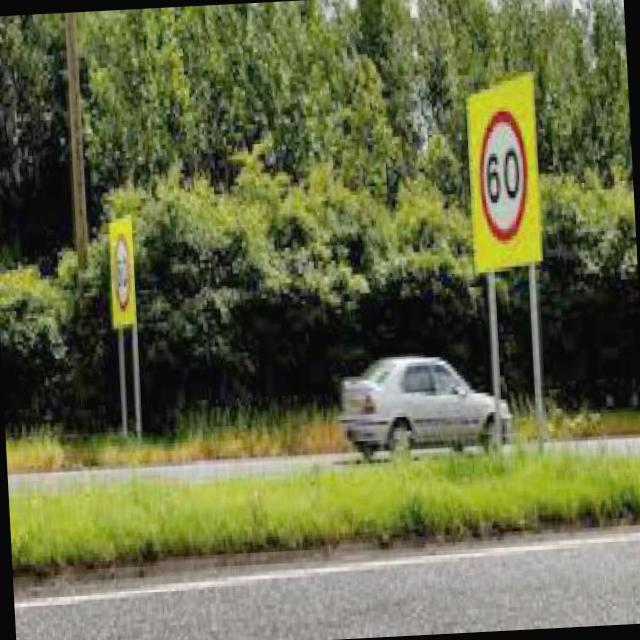Ograniczenie predkosci do 60: (476, 103, 532, 245)
